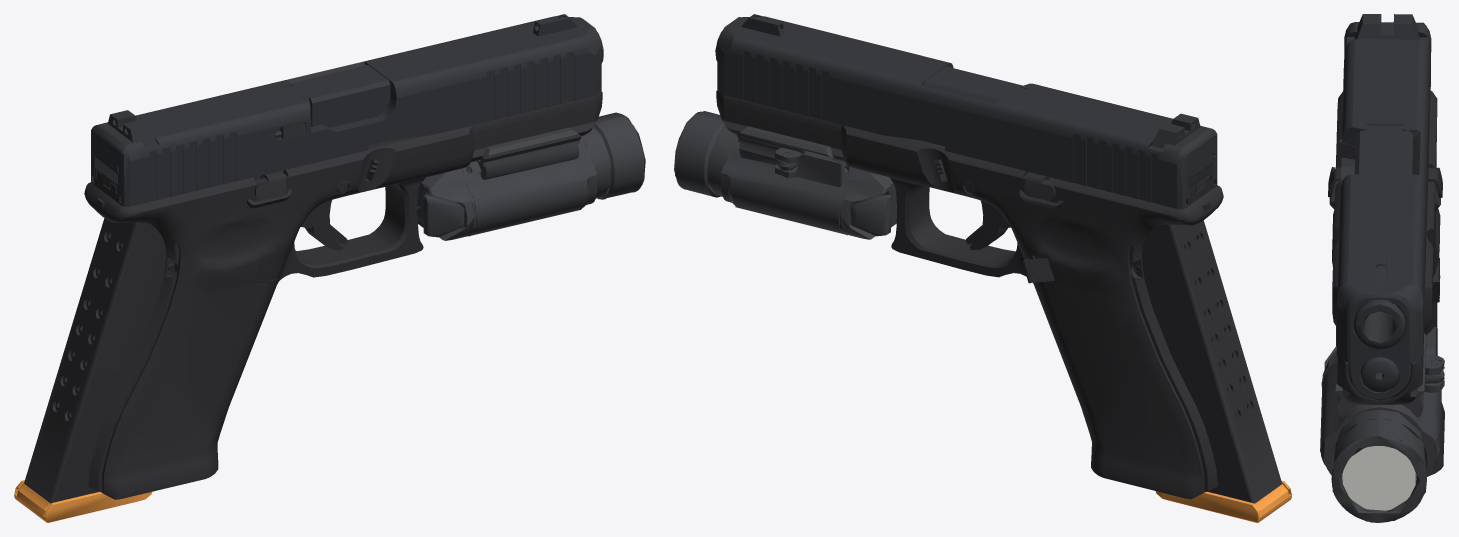
File: pistol.glb
The picture shows the model from 3 angles, left to right: view 1: azimuth 30°, elevation 25°; view 2: azimuth 150°, elevation 25°; view 3: azimuth 270°, elevation 25°; orthographic projection. The views are drawn at different scales.
Visible parts, largest first — view 1: Frame, Slide, Magazine, Light; view 2: Frame, Slide, Magazine, Light; view 3: Slide, Light, Frame, LightLens.
Boxes of the visible parts, box(x1,y1,x2,y2) form: Frame: box(71, 91, 602, 499); Slide: box(91, 14, 603, 206); Magazine: box(14, 218, 166, 522); Light: box(417, 112, 645, 240); Frame: box(716, 90, 1235, 499); Slide: box(715, 14, 1217, 209); Magazine: box(1142, 220, 1291, 522); Light: box(674, 111, 896, 239); Slide: box(1337, 14, 1431, 400); Light: box(1320, 327, 1444, 522); Frame: box(1328, 91, 1444, 476); LightLens: box(1342, 446, 1416, 510).
Bounding box in the file's own units: 0.228 × 0.1353 × 0.0352.
